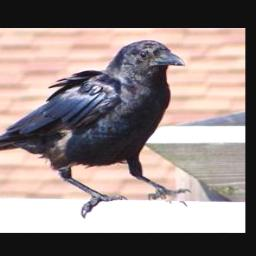Crow: (0, 39, 191, 218)
